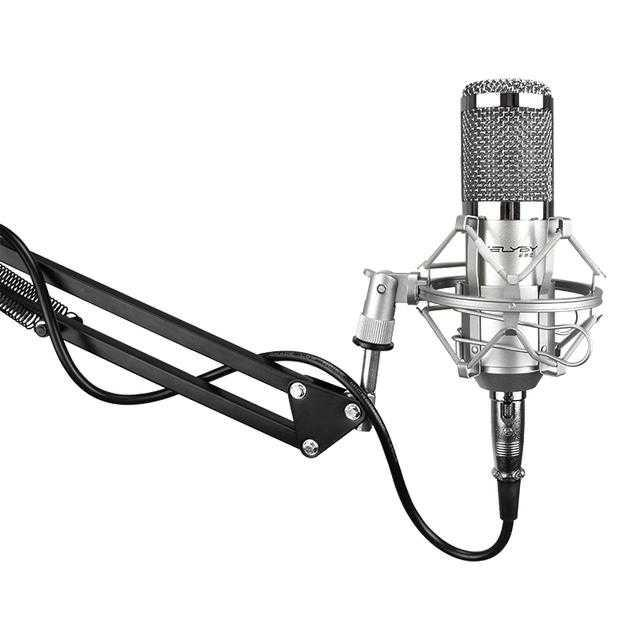microphone: (460, 79, 556, 395)
